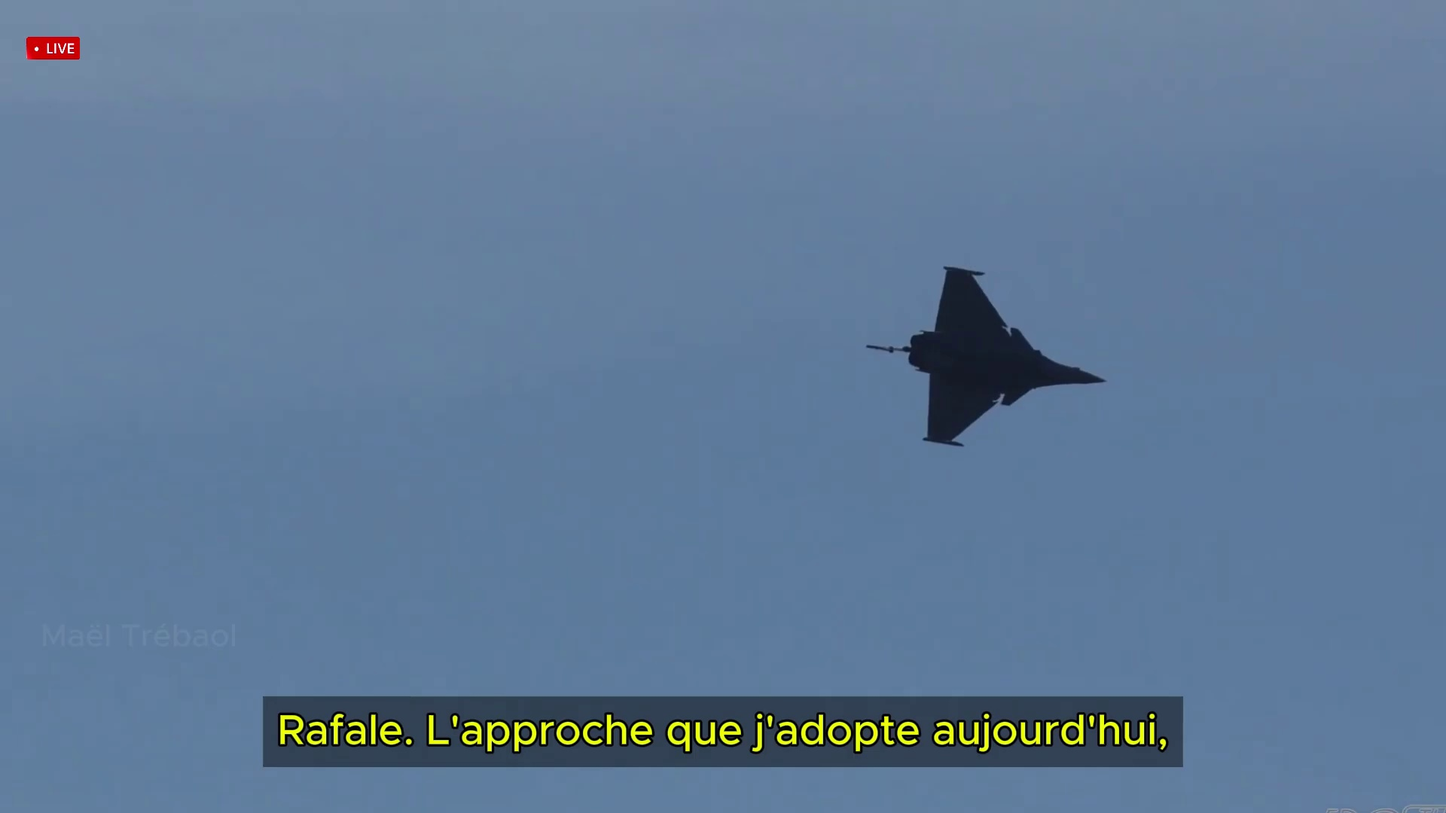Rafale: (866, 263, 1104, 453)
